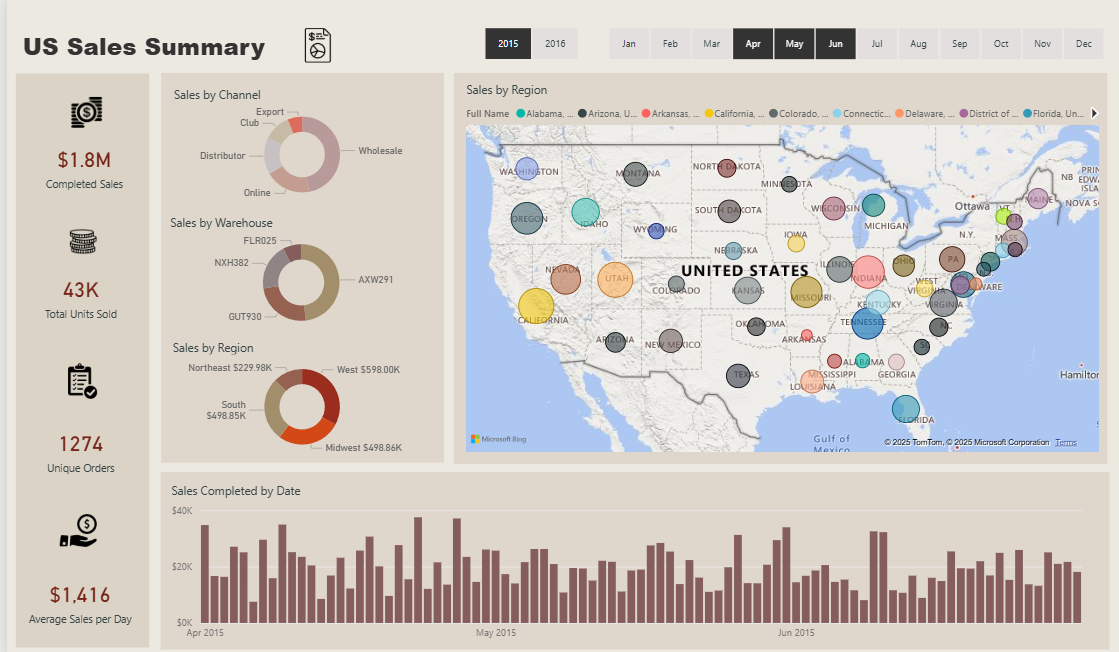

The page's visual inventory and layout, read from the dashboard file:
{"tool":"powerbi","page":{"name":"Sales Summary","canvas":[1280,720],"ordinal":0},"visuals":[{"type":"basicShape","box":[503.6,50.9,762.4,455.9],"z":0},{"type":"basicShape","box":[8.6,49.7,155.5,669.2],"z":1000},{"type":"basicShape","box":[172.5,51,329.8,454.5],"z":2000},{"type":"basicShape","box":[163.8,510.1,1106.8,207.1],"z":3000},{"type":"columnChart","title":"Sales Completed by Date","fields":{"Category":["Date.Date"],"Y":["Key Metrics.Total Sales Completed"]},"box":[183,524.1,1068.8,188.4],"z":4000},{"type":"textbox","box":[12.2,2,306.6,51.8],"z":5000},{"type":"map","title":"Sales by Region","fields":{"Series":["US Regions.Full Name"],"Size":["Key Metrics.Completed Sales"],"Category":["US Regions.Name"]},"box":[519.8,66.2,732.9,428.4],"z":6000},{"type":"card","fields":{"Values":["Key Metrics.Total Sales Completed"]},"box":[18.3,128.9,140.1,68],"z":7000},{"type":"card","fields":{"Values":["Key Metrics.Total Units Sold"]},"box":[24.8,277.6,121,67],"z":8000},{"type":"card","fields":{"Values":["Key Metrics.Unique Orders"]},"box":[20.3,453.7,128.9,66],"z":9000},{"type":"donutChart","title":"Sales by Channel","fields":{"Y":["Key Metrics.Total Sales Completed"],"Category":["Unleashed Sales Orders.Customer Type"]},"box":[185.8,71.3,303.5,138.3],"z":10000},{"type":"donutChart","title":"Sales by Warehouse","fields":{"Category":["Unleashed Sales Orders.WarehouseCode"],"Y":["Key Metrics.Total Sales Completed"]},"box":[181.5,217.1,310,139.3],"z":11000},{"type":"donutChart","title":"Sales by Region","fields":{"Category":["US Regions.Region"],"Y":["Key Metrics.Total Sales Completed"]},"box":[184,359.8,306.4,137.8],"z":12000},{"type":"card","fields":{"Values":["Key Metrics.Average Sales per Day"]},"box":[16.2,622.2,136,74.1],"z":13000},{"type":"slicer","fields":{"Values":["Date.ShortMth"]},"box":[663.6,0,613.1,45],"z":14000},{"type":"slicer","fields":{"Values":["Date.Year"]},"box":[523,0,153.8,45],"z":15000},{"type":"image","box":[329.9,0,50.8,48.7],"z":16000},{"type":"image","box":[53.8,78.2,73.1,44.7],"z":17000},{"type":"image","box":[54,227.9,65.9,40],"z":18000},{"type":"image","box":[55.8,382.7,61.9,50.8],"z":19000},{"type":"image","box":[51.8,553,60.5,51.8],"z":20000}]}

Visuals, with their boxes on the page's 1280x720 design canvas (x1, y1, x2, y2). These are canvas units, not pixel positions in the 1119x652 screenshot, which may show the page scaled, cropped or inside an application window:
basicShape: x1=504, y1=51, x2=1266, y2=507
basicShape: x1=9, y1=50, x2=164, y2=719
basicShape: x1=172, y1=51, x2=502, y2=506
basicShape: x1=164, y1=510, x2=1271, y2=717
"Sales Completed by Date" columnChart: x1=183, y1=524, x2=1252, y2=712
textbox: x1=12, y1=2, x2=319, y2=54
"Sales by Region" map: x1=520, y1=66, x2=1253, y2=495
card - Key Metrics.Total Sales Completed: x1=18, y1=129, x2=158, y2=197
card - Key Metrics.Total Units Sold: x1=25, y1=278, x2=146, y2=345
card - Key Metrics.Unique Orders: x1=20, y1=454, x2=149, y2=520
"Sales by Channel" donutChart: x1=186, y1=71, x2=489, y2=210
"Sales by Warehouse" donutChart: x1=182, y1=217, x2=492, y2=356
"Sales by Region" donutChart: x1=184, y1=360, x2=490, y2=498
card - Key Metrics.Average Sales per Day: x1=16, y1=622, x2=152, y2=696
slicer - Date.ShortMth: x1=664, y1=0, x2=1277, y2=45
slicer - Date.Year: x1=523, y1=0, x2=677, y2=45
image: x1=330, y1=0, x2=381, y2=49
image: x1=54, y1=78, x2=127, y2=123
image: x1=54, y1=228, x2=120, y2=268
image: x1=56, y1=383, x2=118, y2=434
image: x1=52, y1=553, x2=112, y2=605
